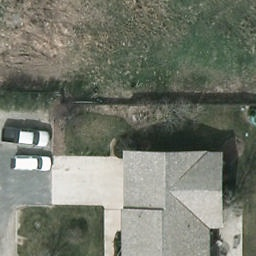car: (9, 156, 52, 172)
pickup: (1, 127, 52, 148)
